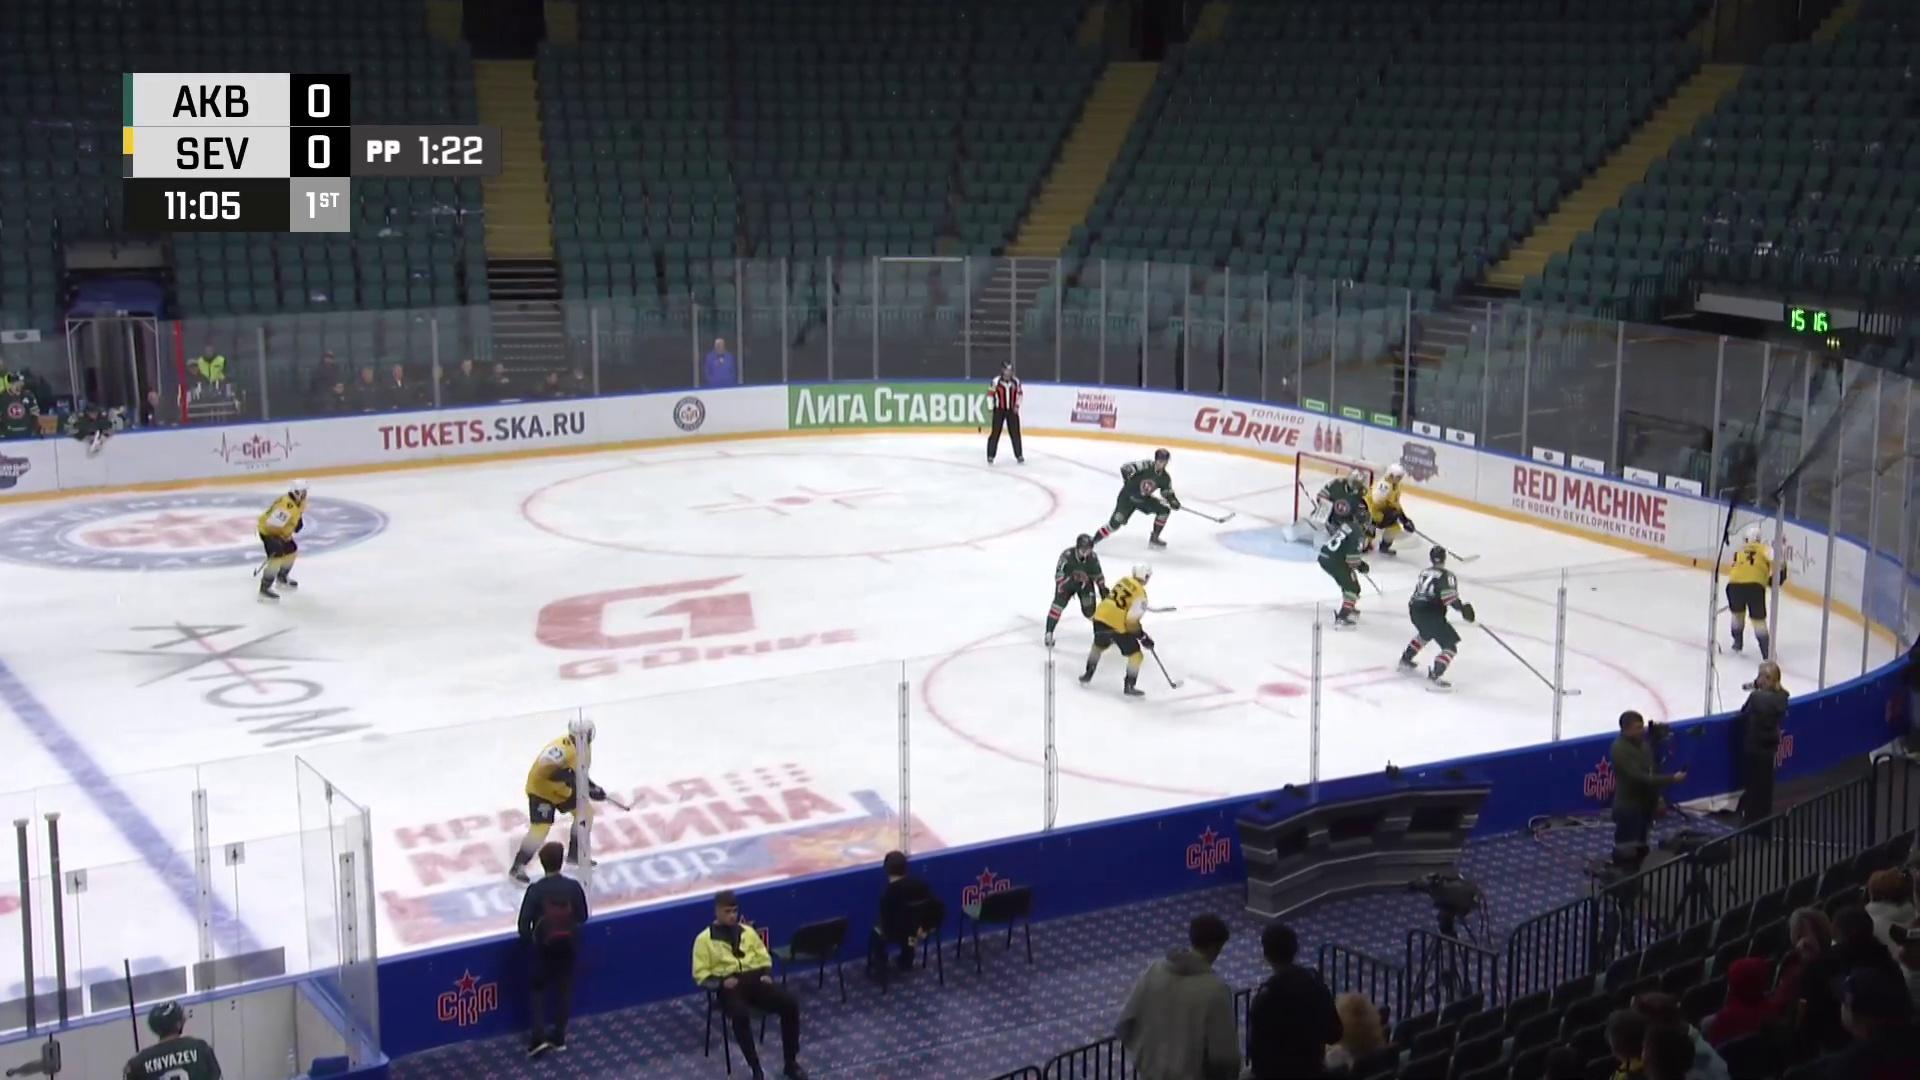ball: (1590, 587, 1597, 592)
